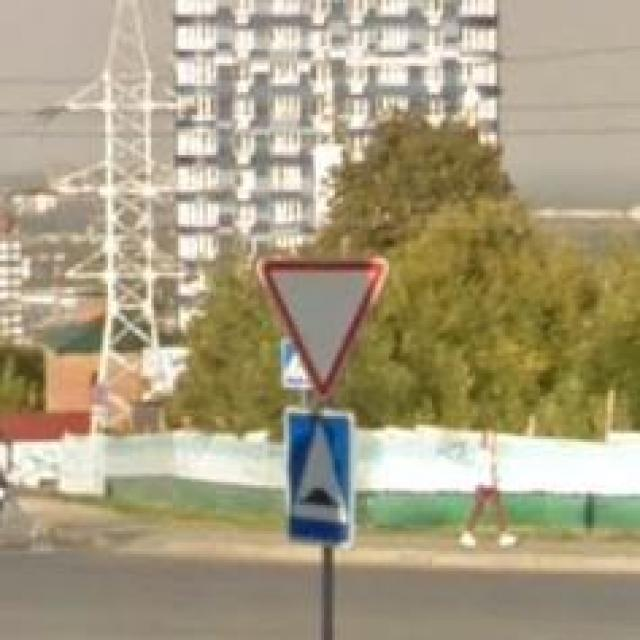Ustap pierwszenstwa: (256, 249, 389, 402)
